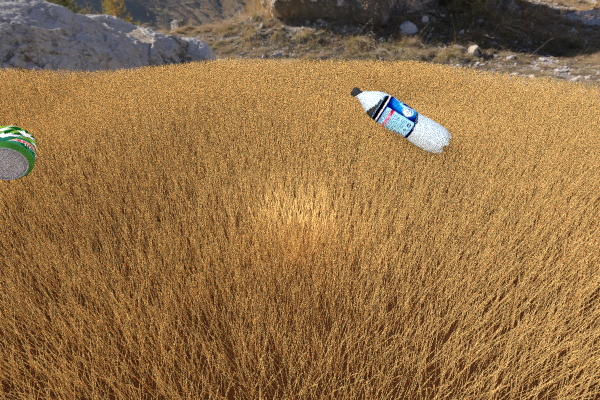bottle: (350, 86, 451, 153)
can: (0, 125, 37, 180)
